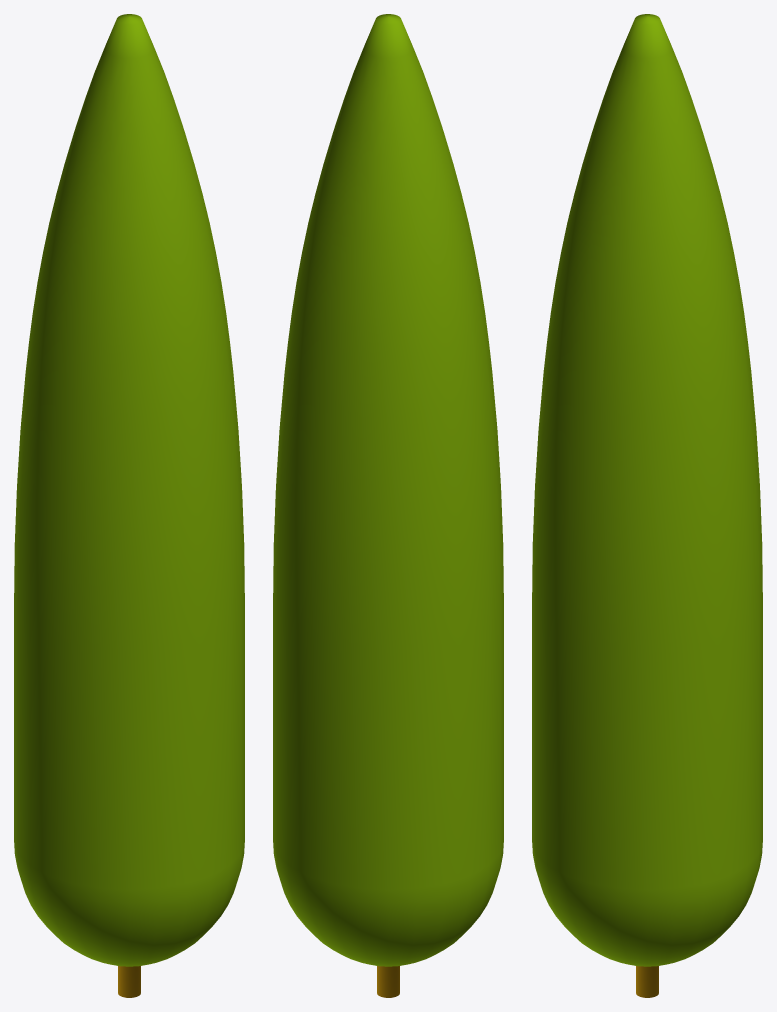
Rendered from LPKo14m.glb.
3 renders of one model, left to right at view 1: azimuth 30°, elevation 25°; view 2: azimuth 150°, elevation 25°; view 3: azimuth 270°, elevation 25°, orthographic.
Parts seen in each view (by area): view 1: LPKo14m; view 2: LPKo14m; view 3: LPKo14m.
Part boxes in pixels (left/top/right/bottom): LPKo14m: left=14, top=14, right=244, bottom=997; LPKo14m: left=273, top=14, right=503, bottom=997; LPKo14m: left=532, top=14, right=762, bottom=997.
Bounding box in the file's own units: 3 × 14 × 3.
